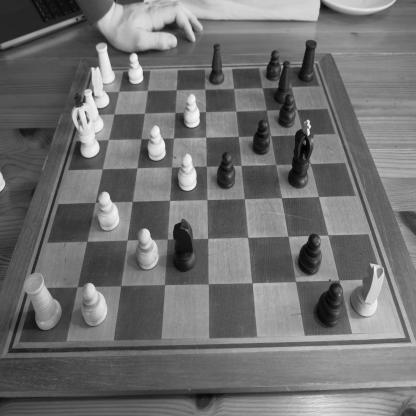black-bishop: (274, 60, 290, 104), (208, 44, 224, 85)
black-king: (288, 119, 314, 189)
black-knight: (172, 218, 197, 272)
black-pawn: (316, 282, 344, 328), (298, 233, 322, 275), (216, 151, 236, 190), (252, 119, 271, 156), (279, 93, 296, 128), (266, 50, 282, 82)
black-rook: (298, 39, 317, 83)
white-bishop: (84, 88, 104, 134)
white-king: (71, 92, 100, 159)
white-knight: (350, 263, 385, 318), (91, 66, 110, 109)
white-pawn: (81, 282, 108, 327), (136, 228, 159, 272), (97, 191, 120, 232), (178, 152, 198, 192), (148, 124, 166, 162), (183, 93, 201, 129), (128, 52, 144, 85)
white-rook: (23, 272, 63, 332), (95, 42, 116, 85)
